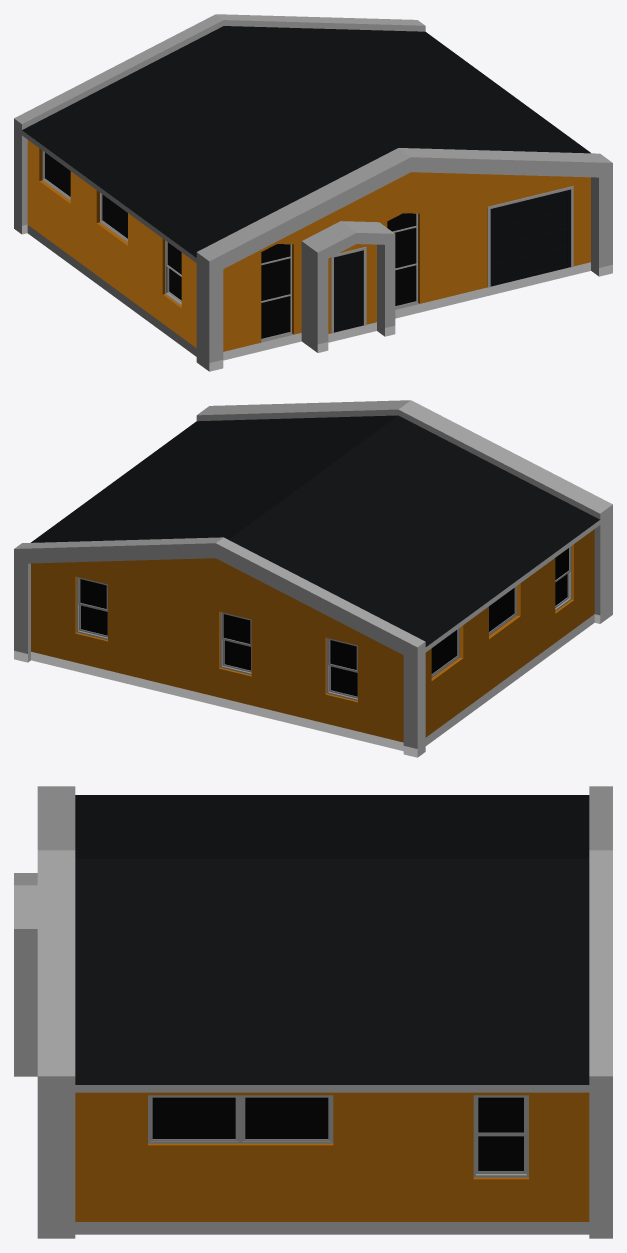
Rendered from house_b.FBX.
3 renders of one model, top to bottom at view 1: azimuth 30°, elevation 25°; view 2: azimuth 150°, elevation 25°; view 3: azimuth 270°, elevation 25°, orthographic. The views are drawn at different scales.
Parts seen in each view (by area): view 1: Roof, GarageDoorFrame, WallFront, GarageDoor, FrontGlass; view 2: Roof, WallFront, GarageDoorFrame, FrontGlass; view 3: Roof, WallFront, GarageDoorFrame, FrontGlass.
Boxes of the visible parts, x1=… form: Roof: x1=22, y1=26, x2=590, y2=257; GarageDoorFrame: x1=14, y1=14, x2=612, y2=371; WallFront: x1=27, y1=140, x2=590, y2=351; GarageDoor: x1=334, y1=189, x2=570, y2=332; FrontGlass: x1=45, y1=152, x2=415, y2=338; Roof: x1=30, y1=415, x2=599, y2=646; WallFront: x1=31, y1=529, x2=594, y2=742; GarageDoorFrame: x1=14, y1=400, x2=612, y2=757; FrontGlass: x1=80, y1=548, x2=568, y2=696; Roof: x1=75, y1=795, x2=589, y2=1084; WallFront: x1=75, y1=1092, x2=589, y2=1221; GarageDoorFrame: x1=14, y1=786, x2=612, y2=1238; FrontGlass: x1=152, y1=1097, x2=523, y2=1171.
Bounding box in the file's own units: 11.66 × 4.56 × 10.18.
